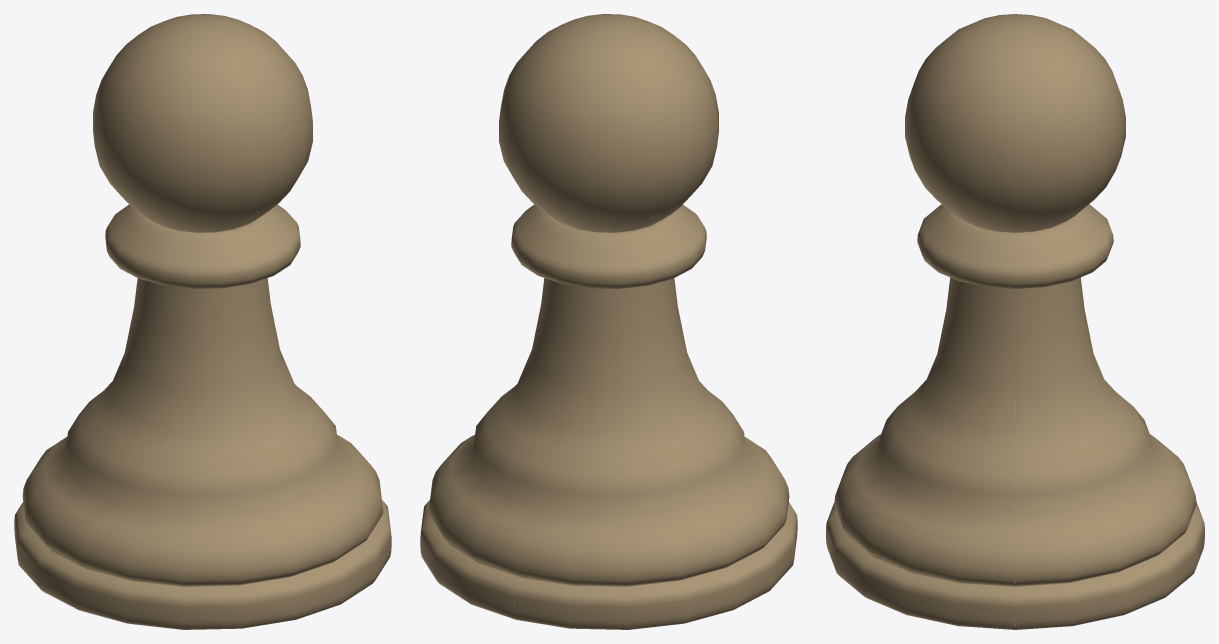
The picture shows the model from 3 angles, left to right: view 1: azimuth 30°, elevation 25°; view 2: azimuth 150°, elevation 25°; view 3: azimuth 270°, elevation 25°; orthographic projection.
Parts seen in each view (by area): view 1: PEDONE13; view 2: PEDONE13; view 3: PEDONE13.
Part boxes in pixels (box(x1,y1,x2,y2)): PEDONE13: box(14, 14, 391, 629); PEDONE13: box(420, 14, 797, 629); PEDONE13: box(826, 14, 1204, 629).
Size of the model in its own units: 136 by 210 by 136.
